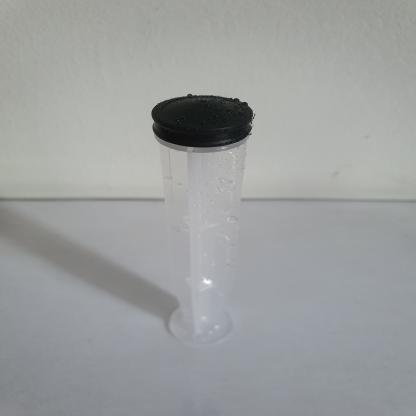wet: (142, 88, 247, 348)
